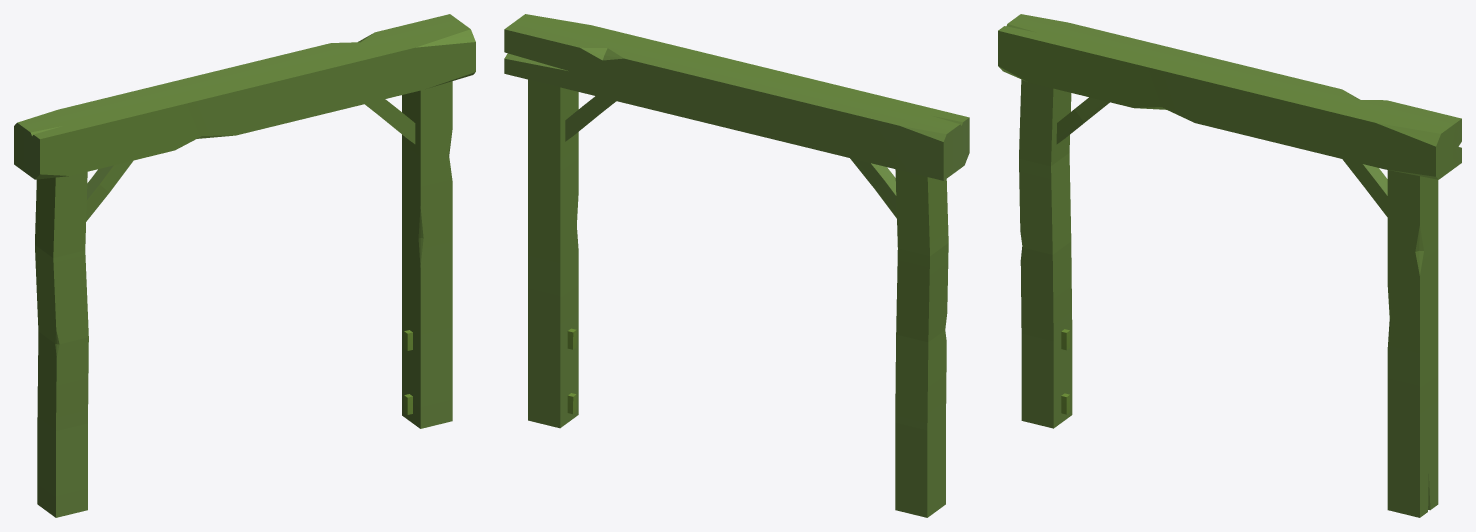
File: Arch_02.fbx
3 renders of one model, left to right at view 1: azimuth 30°, elevation 25°; view 2: azimuth 150°, elevation 25°; view 3: azimuth 330°, elevation 25°, orthographic.
Parts seen in each view (by area): view 1: Arch_02; view 2: Arch_02; view 3: Arch_02.
Part boxes in pixels (bbox=[...]): Arch_02: bbox=[14, 14, 475, 517]; Arch_02: bbox=[504, 14, 969, 517]; Arch_02: bbox=[998, 14, 1461, 517].
Size of the model in its own units: 4.67 by 3.95 by 0.4787.
